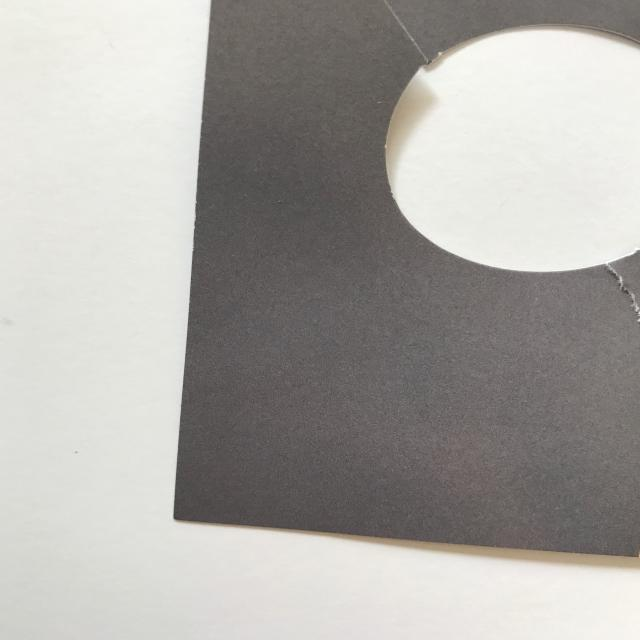paper: (129, 0, 640, 583)
